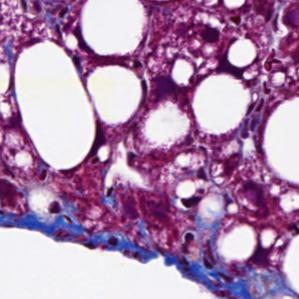inflammation: (171, 19, 223, 48), (208, 151, 247, 183), (176, 193, 205, 214)
